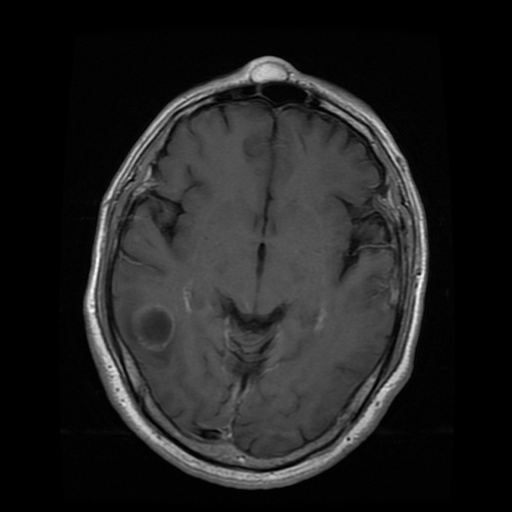glioma: (130, 303, 175, 350)
